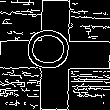O_E: (29, 33, 81, 77)
